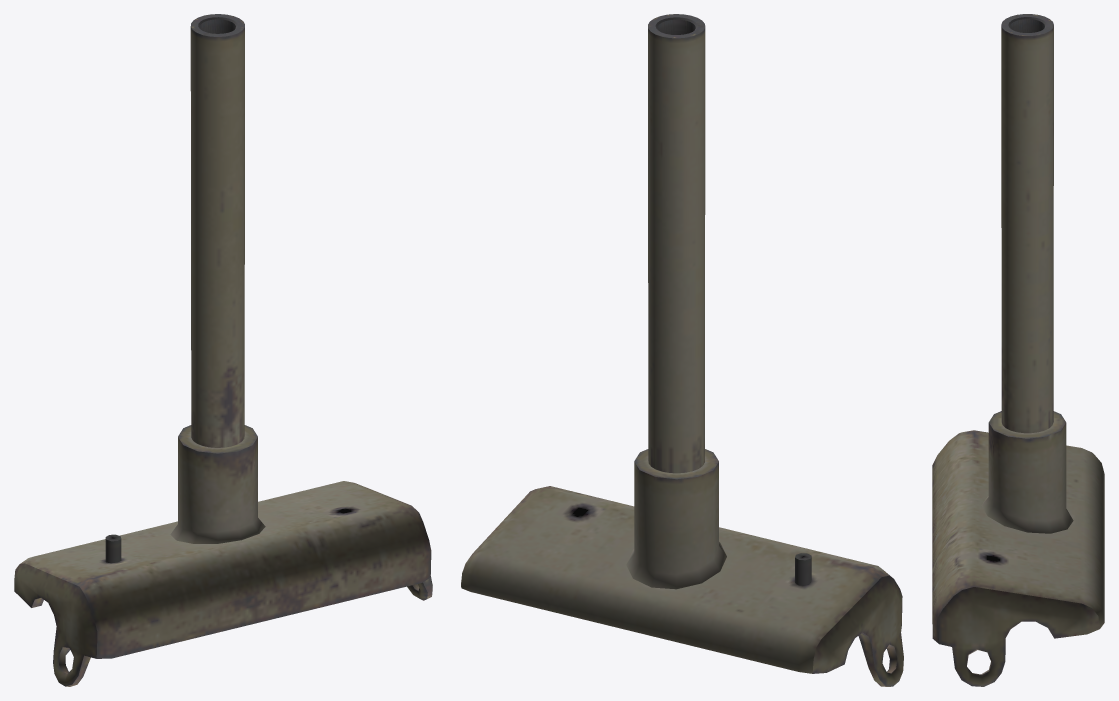
The model's file is Gun_04.glb.
The picture shows the model from 3 angles, left to right: view 1: azimuth 30°, elevation 25°; view 2: azimuth 150°, elevation 25°; view 3: azimuth 270°, elevation 25°; orthographic projection. The views are drawn at different scales.
Parts seen in each view (by area): view 1: set_0_group_0; view 2: set_0_group_0; view 3: set_0_group_0.
Part boxes in pixels (x1,y1,x2,y2): set_0_group_0: [14, 14, 432, 686]; set_0_group_0: [461, 14, 903, 686]; set_0_group_0: [932, 14, 1104, 686].
Size of the model in its own units: 1.23 by 1.91 by 0.5169.
Materials: 1 (1 with a texture image).
